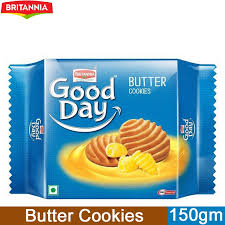gooday-medium: (11, 63, 216, 198)
